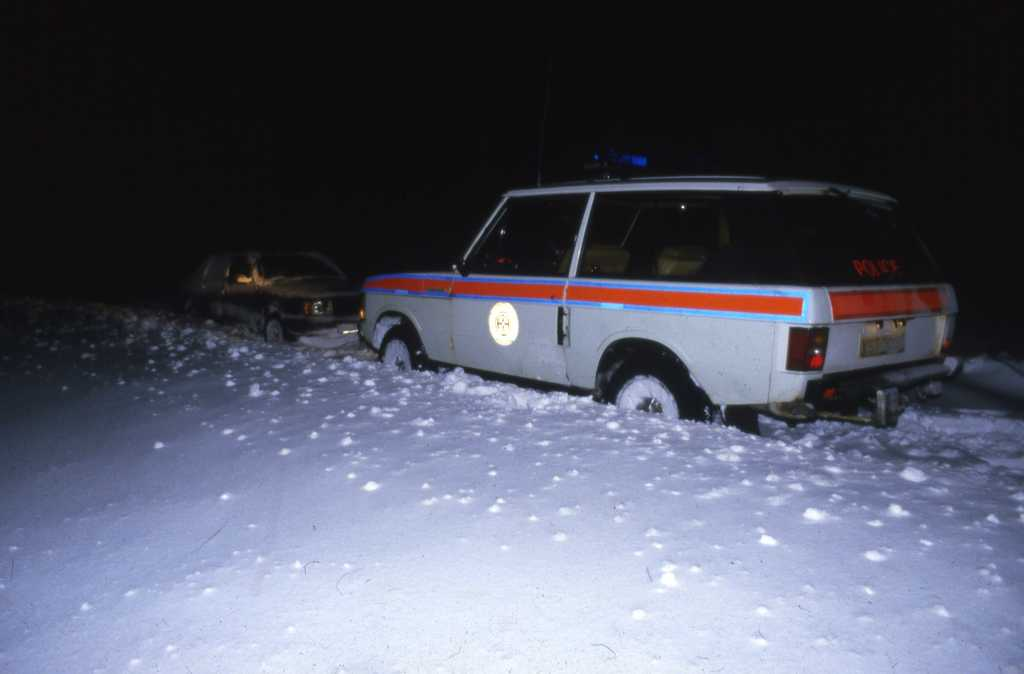car: (314, 147, 975, 440)
